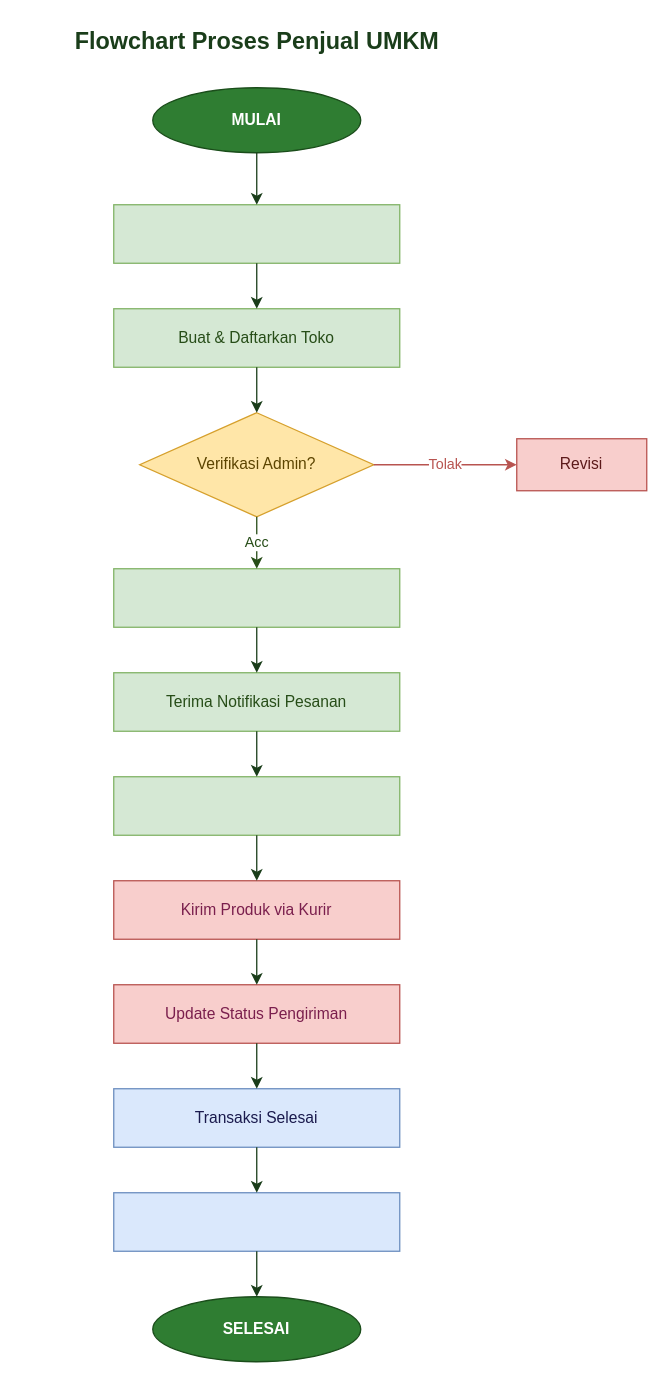
This 670x1385 diagram has some shape labels left out. The shapes that lost their labels are listed below. From the top down, each one's centre as x and y in pixels, then its label:
At point (256, 233): "Daftar / Login sebagai Penjual".
At point (256, 597): "Tambah Produk & Stok".
At point (256, 805): "Konfirmasi & Kemas Produk".
At point (256, 1221): "Lihat Laporan Penjualan".
